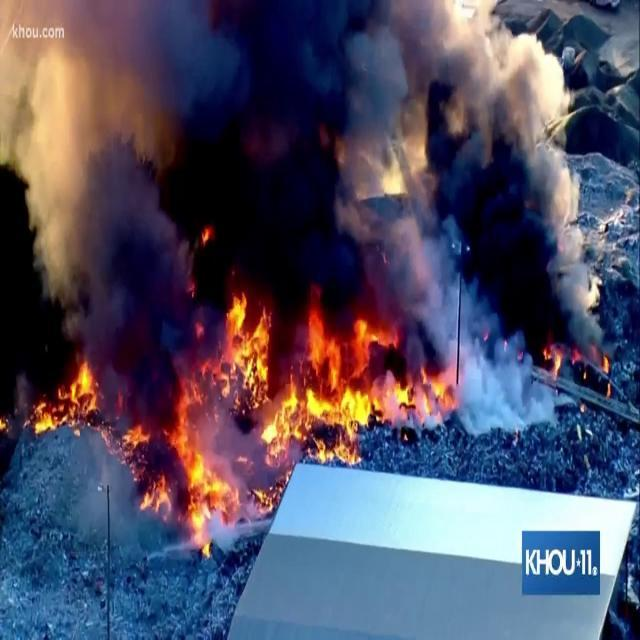Fire: (216, 290, 448, 462), (126, 366, 240, 542), (33, 354, 100, 432)
Smoke: (16, 1, 608, 368)
